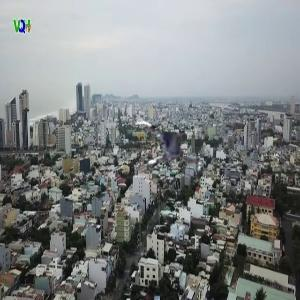drone: (130, 107, 210, 187)
